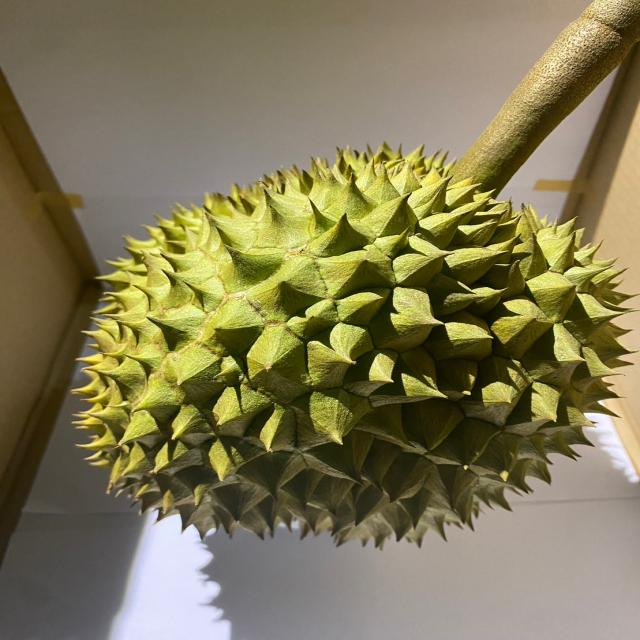immature: (74, 138, 632, 554)
